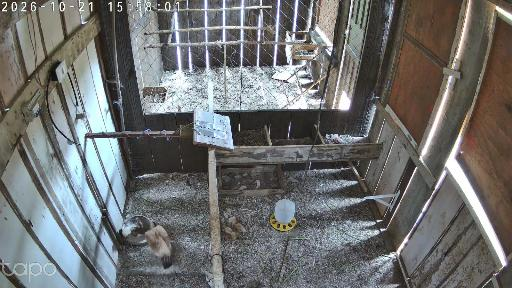galinha: (133, 226, 172, 270)
pintinho: (233, 220, 246, 234), (222, 225, 234, 235), (135, 217, 144, 228)
